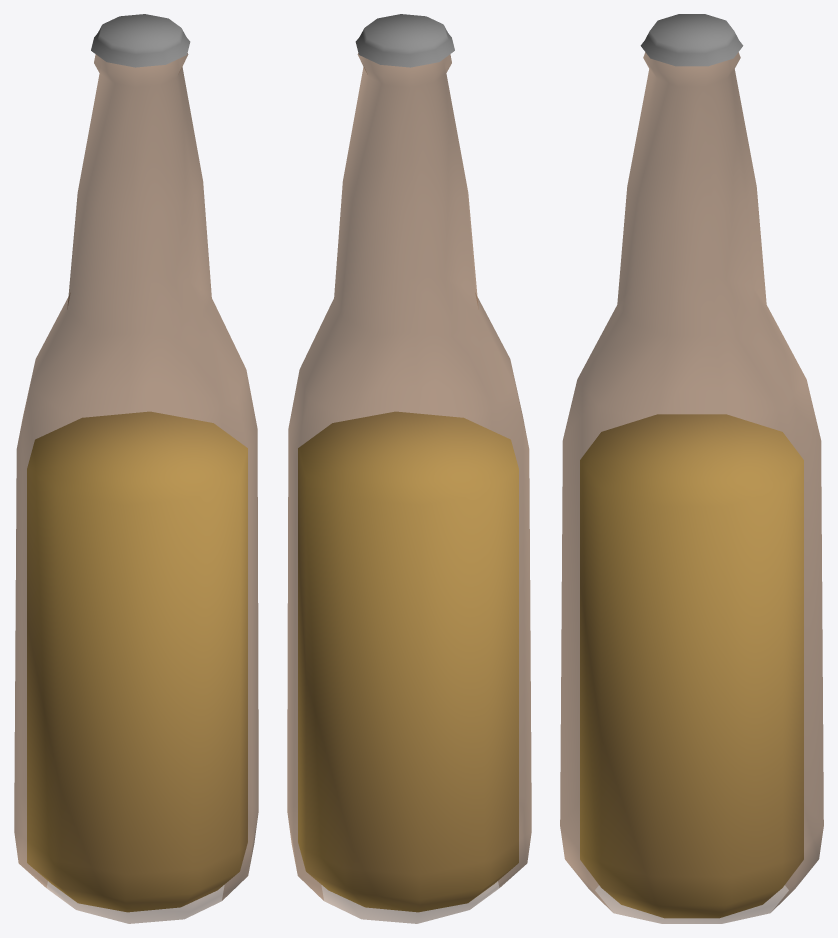
Rendered from Bottle_Beer.fbx.
The picture shows the model from 3 angles, left to right: view 1: azimuth 30°, elevation 25°; view 2: azimuth 150°, elevation 25°; view 3: azimuth 270°, elevation 25°; orthographic projection.
Parts seen in each view (by area): view 1: Bottle_Beer; view 2: Bottle_Beer; view 3: Bottle_Beer.
Part boxes in pixels (<box>): Bottle_Beer: <box>14,14,258,923</box>; Bottle_Beer: <box>287,14,531,923</box>; Bottle_Beer: <box>560,14,823,923</box>.
Bounding box in the file's own units: 31.37 × 125 × 34.67.
